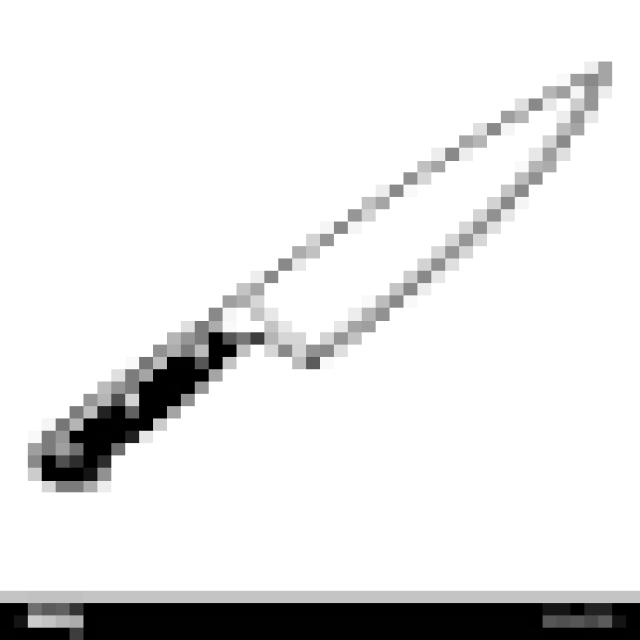Knife: (14, 49, 612, 480)
